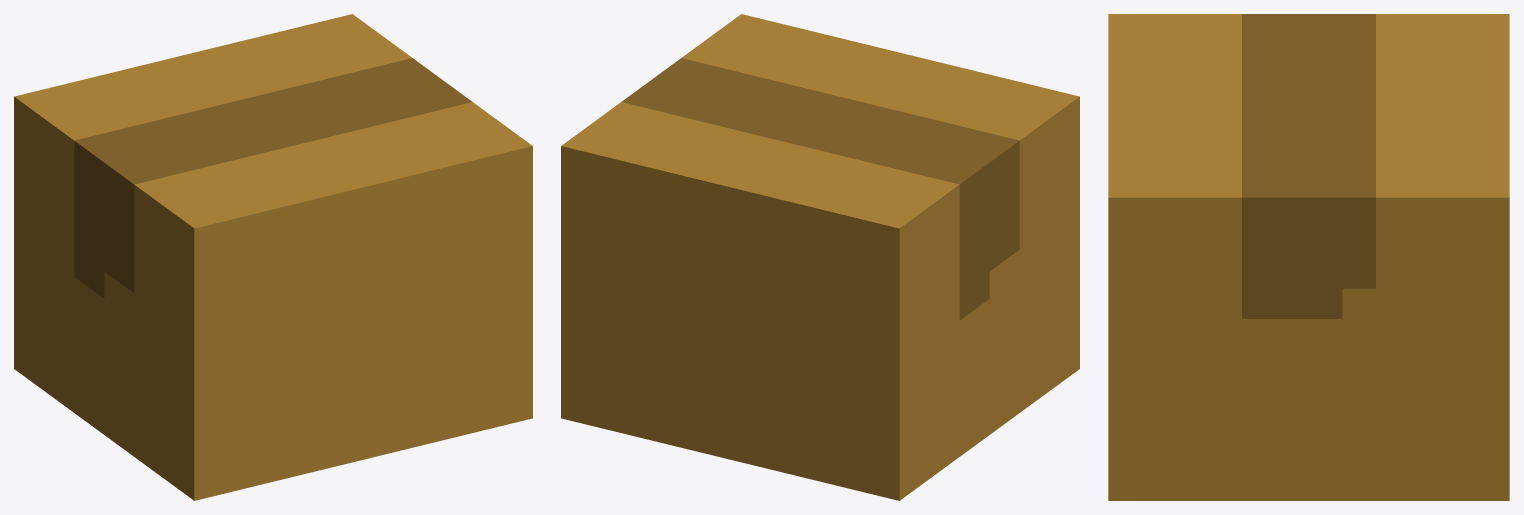
3 views of the same model, side by side, from view 1: azimuth 30°, elevation 25°; view 2: azimuth 150°, elevation 25°; view 3: azimuth 270°, elevation 25° (orthographic). The views are drawn at different scales.
Parts seen in each view (by area): view 1: Untitled; view 2: Untitled; view 3: Untitled.
Boxes of the visible parts, x1,y1,x2,y2 form: Untitled: (14, 14, 532, 500); Untitled: (561, 14, 1079, 500); Untitled: (1108, 14, 1509, 500).
Bounding box in the file's own units: 0.39 × 0.3 × 0.36.
1 material, 1 textured.
